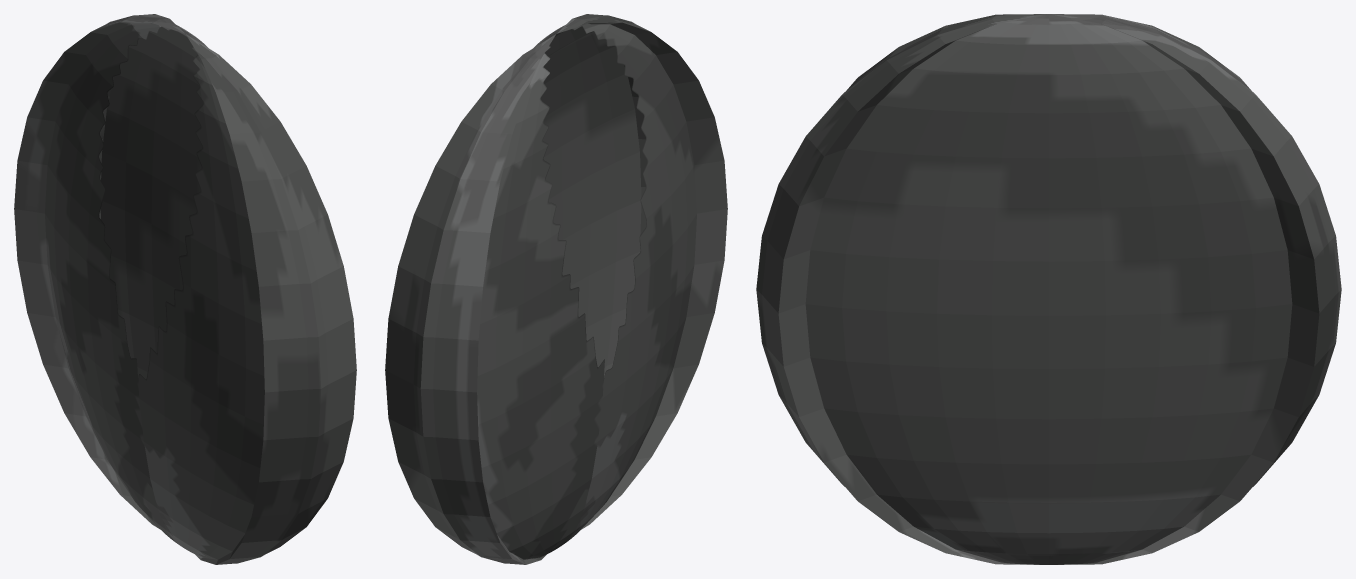
The model's file is playerBullet.obj.
The picture shows the model from 3 angles, left to right: view 1: azimuth 30°, elevation 25°; view 2: azimuth 150°, elevation 25°; view 3: azimuth 270°, elevation 25°; orthographic projection. The views are drawn at different scales.
Parts seen in each view (by area): view 1: 球; view 2: 球; view 3: 球.
Part boxes in pixels (x1,y1,x2,y2): 球: (14,14,356,564); 球: (385,14,727,564); 球: (756,14,1341,564).
Bounding box in the file's own units: 0.256 × 1.25 × 1.2.
1 material, 1 textured.
